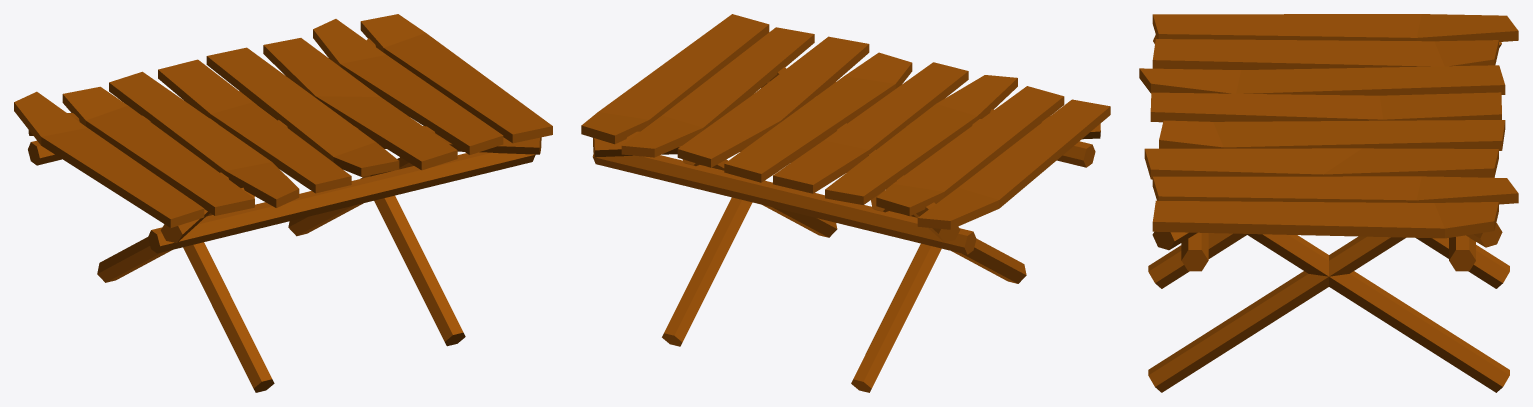
Rendered from GEO_dock_03.fbx.
The picture shows the model from 3 angles, left to right: view 1: azimuth 30°, elevation 25°; view 2: azimuth 150°, elevation 25°; view 3: azimuth 270°, elevation 25°; orthographic projection. The views are drawn at different scales.
Parts seen in each view (by area): view 1: dock_03; view 2: dock_03; view 3: dock_03.
Part boxes in pixels (left/top/right/bottom): dock_03: left=14, top=14, right=552, bottom=392; dock_03: left=581, top=14, right=1110, bottom=392; dock_03: left=1139, top=14, right=1518, bottom=392.
Size of the model in its own units: 464 by 223 by 346.
